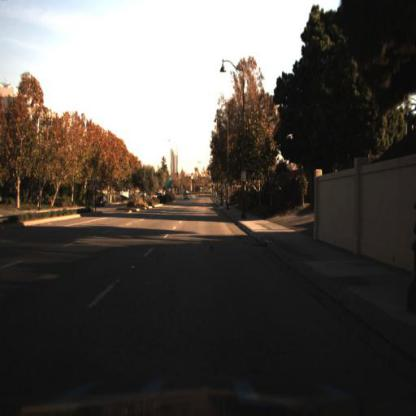car: (94, 193, 109, 216), (95, 192, 109, 213), (181, 189, 193, 208)
